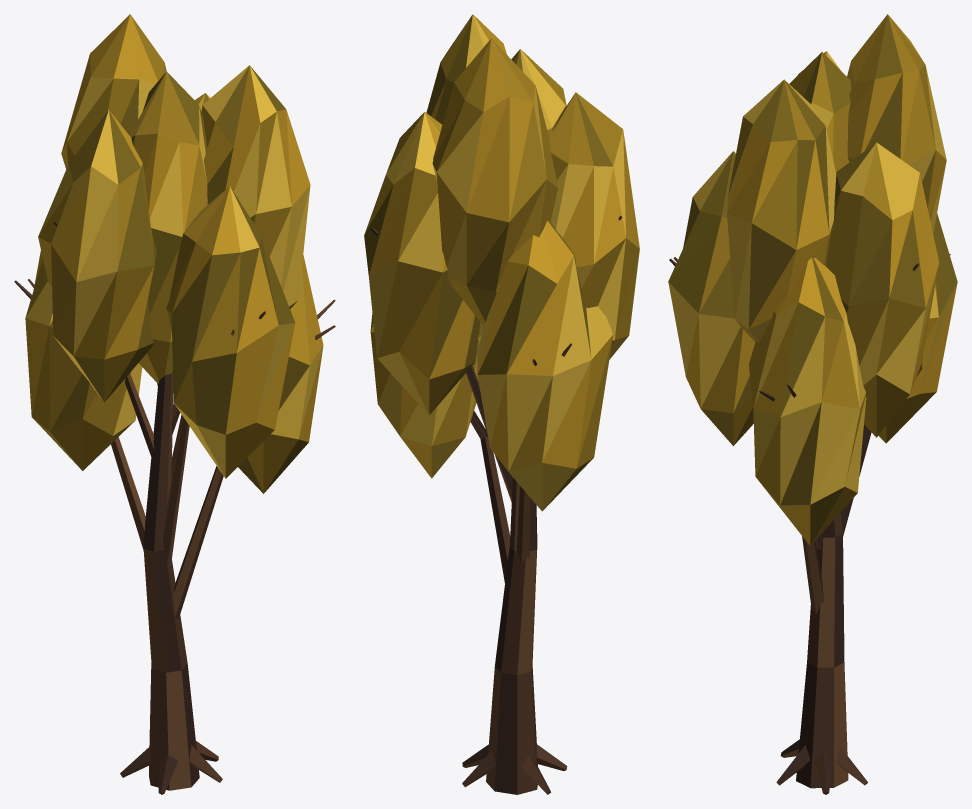
File: tree_poplar_gold.obj
3 views of the same model, side by side, from view 1: azimuth 30°, elevation 25°; view 2: azimuth 150°, elevation 25°; view 3: azimuth 270°, elevation 25° (orthographic). The views are drawn at different scales.
Parts seen in each view (by area): view 1: tree_poplar_gold; view 2: tree_poplar_gold; view 3: tree_poplar_gold.
Part boxes in pixels (x1,y1,x2,y2): tree_poplar_gold: [14, 14, 335, 794]; tree_poplar_gold: [364, 14, 639, 794]; tree_poplar_gold: [668, 14, 957, 794].
Bounding box in the file's own units: 279 × 760 × 262.
Materials: 1 (1 with a texture image).
